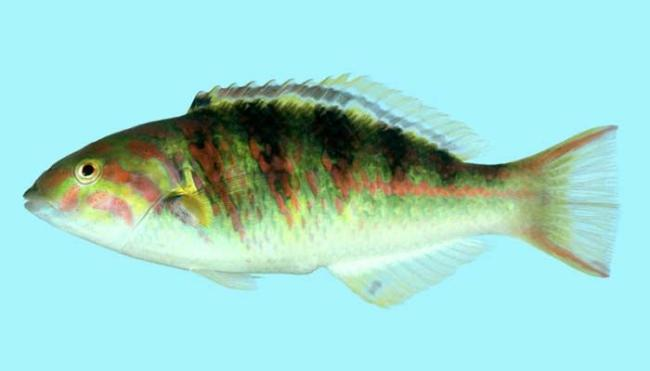fish: (22, 71, 620, 311)
